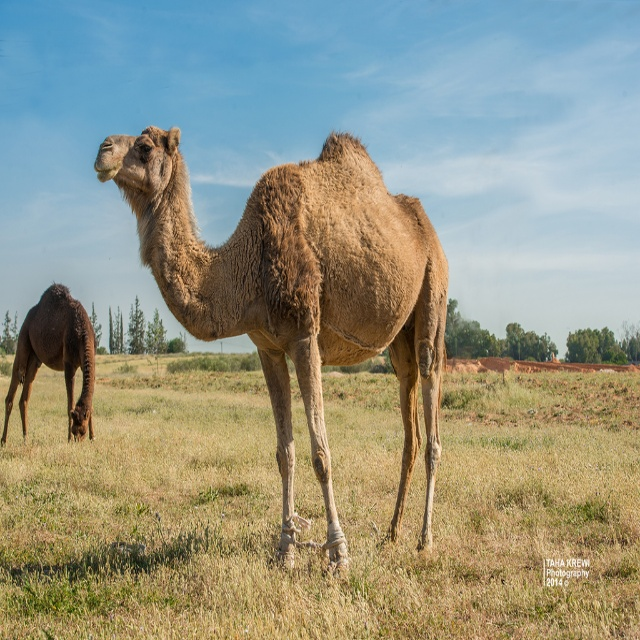Camel: (91, 124, 449, 580), (1, 280, 97, 448)
